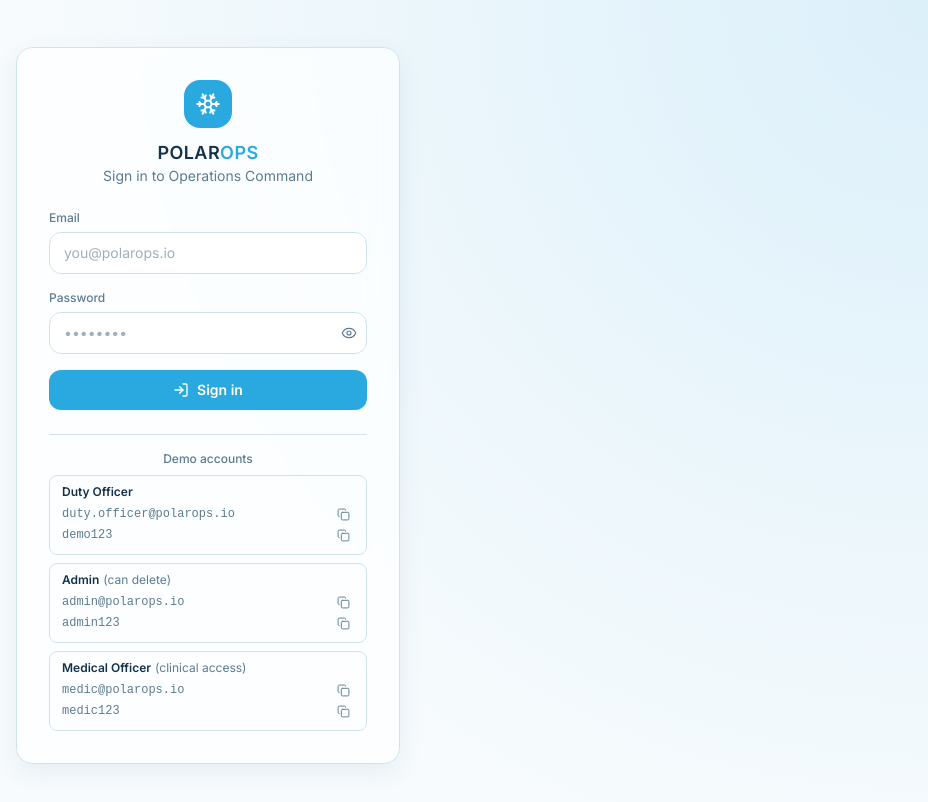
it: Login › shows the server's error message on failed login
Type "duty.officer@polarops.io" into the field labelled "Email" at (208, 252), box [49,232,367,274]
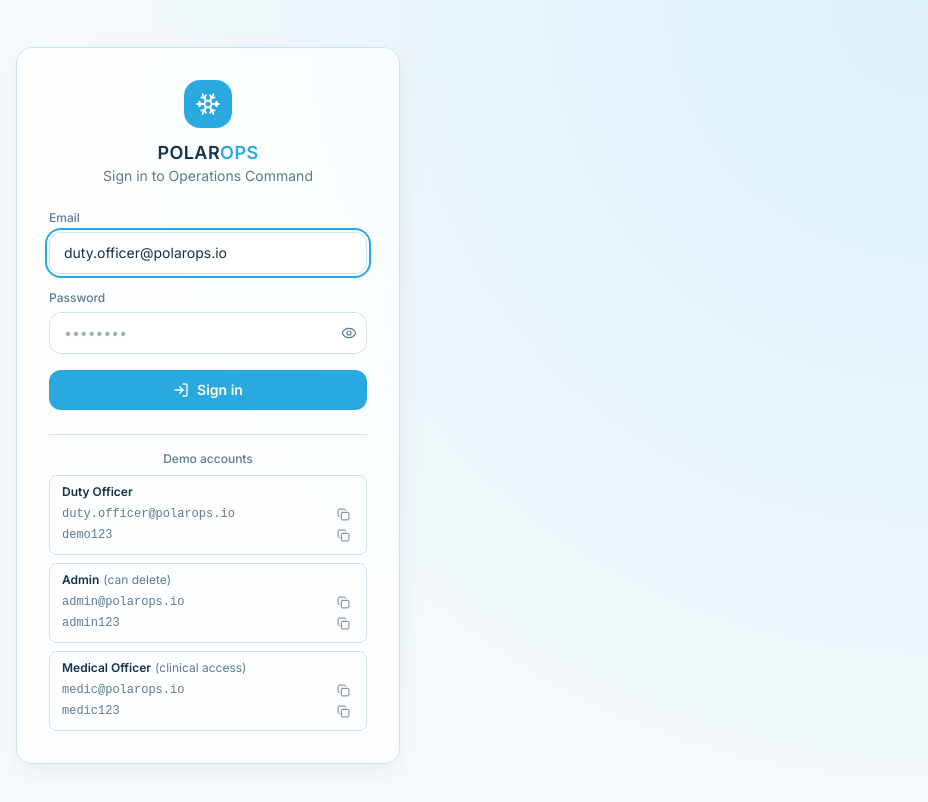
Type "wrong-password" into the password field labelled "Password" at (208, 332), box [49,312,367,354]
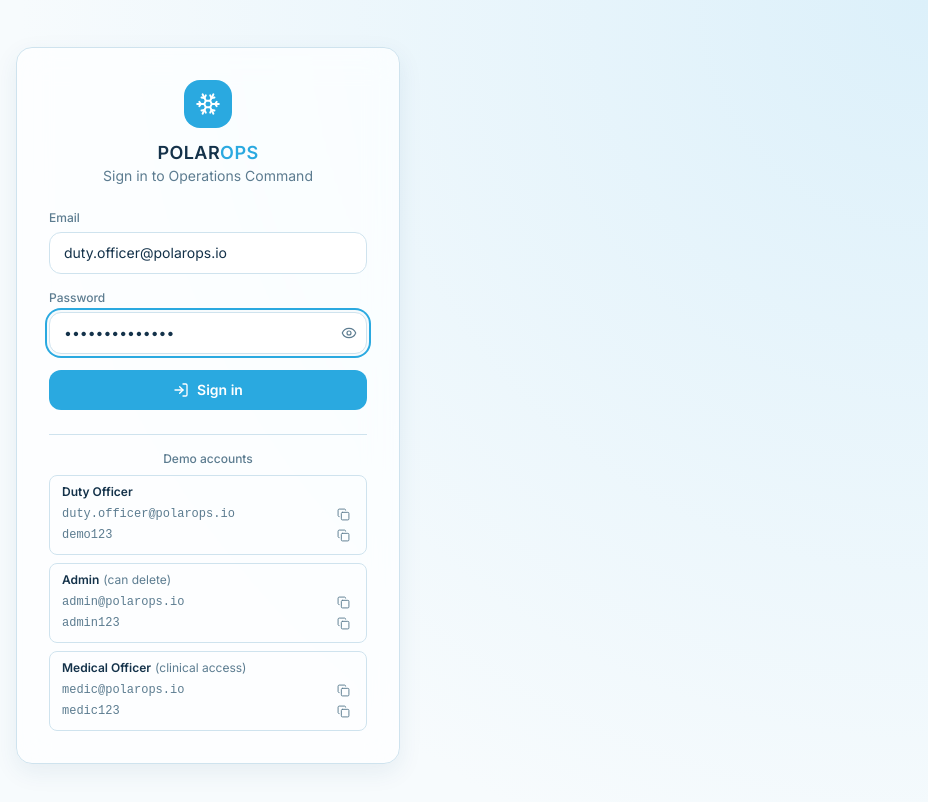
Click the button "Sign in" at (208, 390), box [49,370,367,410]
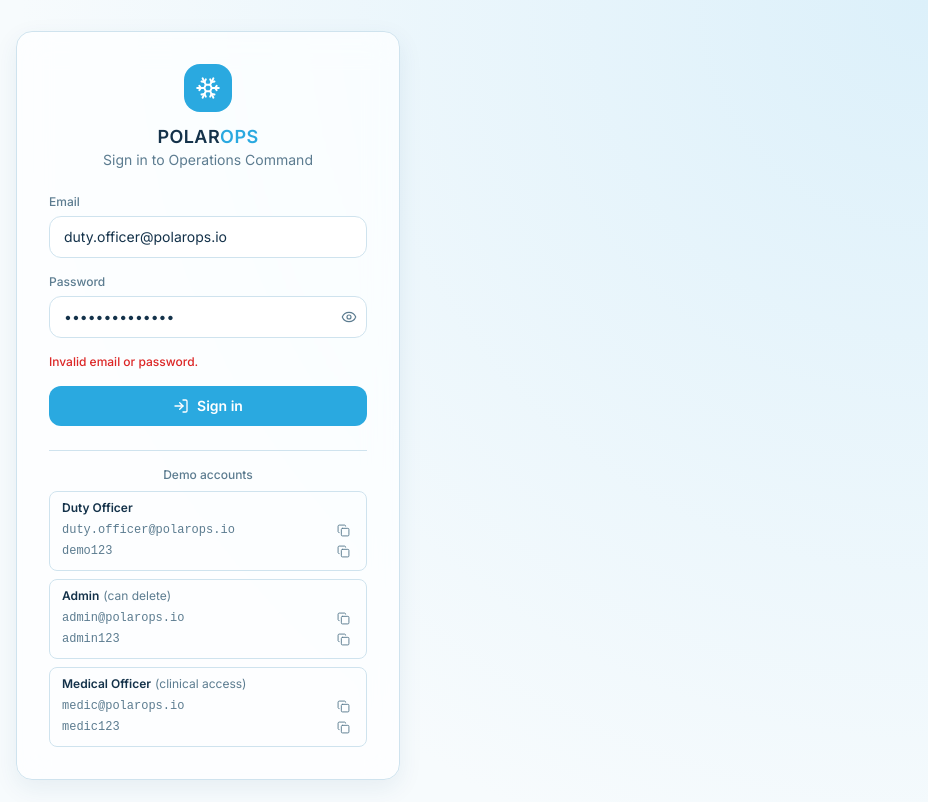
Check: the message reads "Invalid email or password.", box [49,354,198,368]
